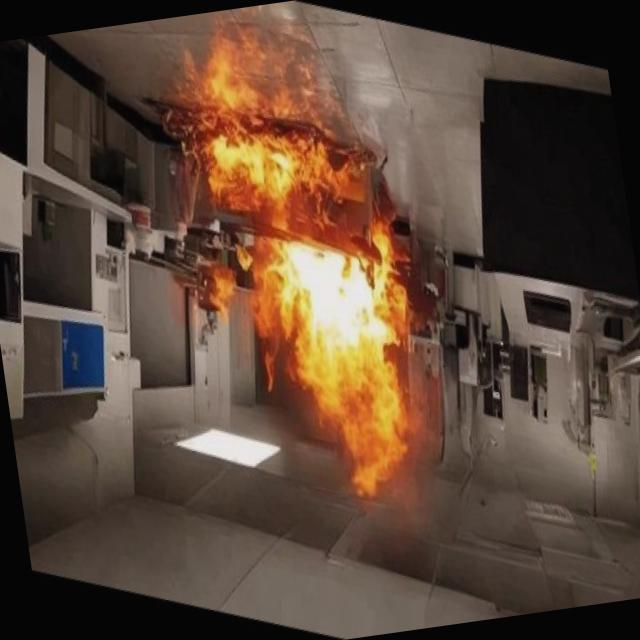fire: (118, 29, 473, 558)
